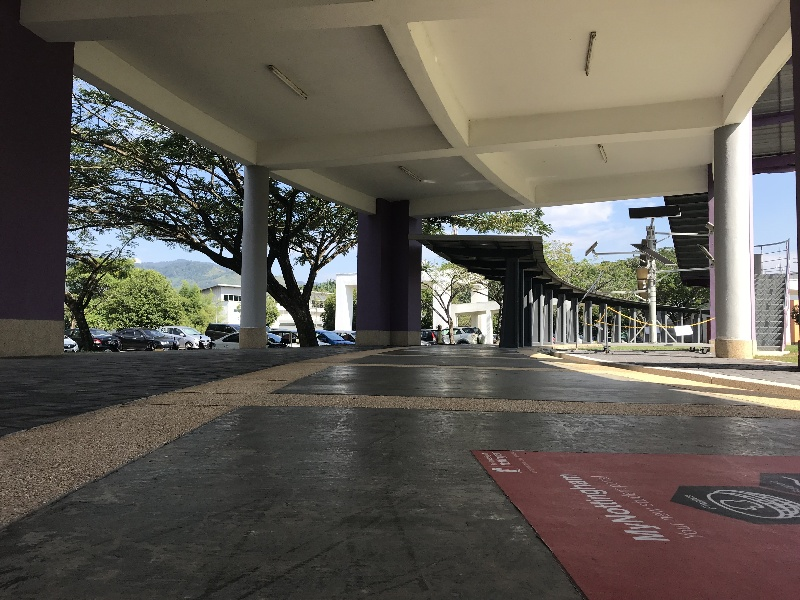Block D Pillar 4: (4, 4, 800, 541)
pillar: (1, 16, 102, 347), (702, 108, 759, 375), (218, 152, 282, 361), (347, 187, 421, 357), (496, 257, 525, 345)
